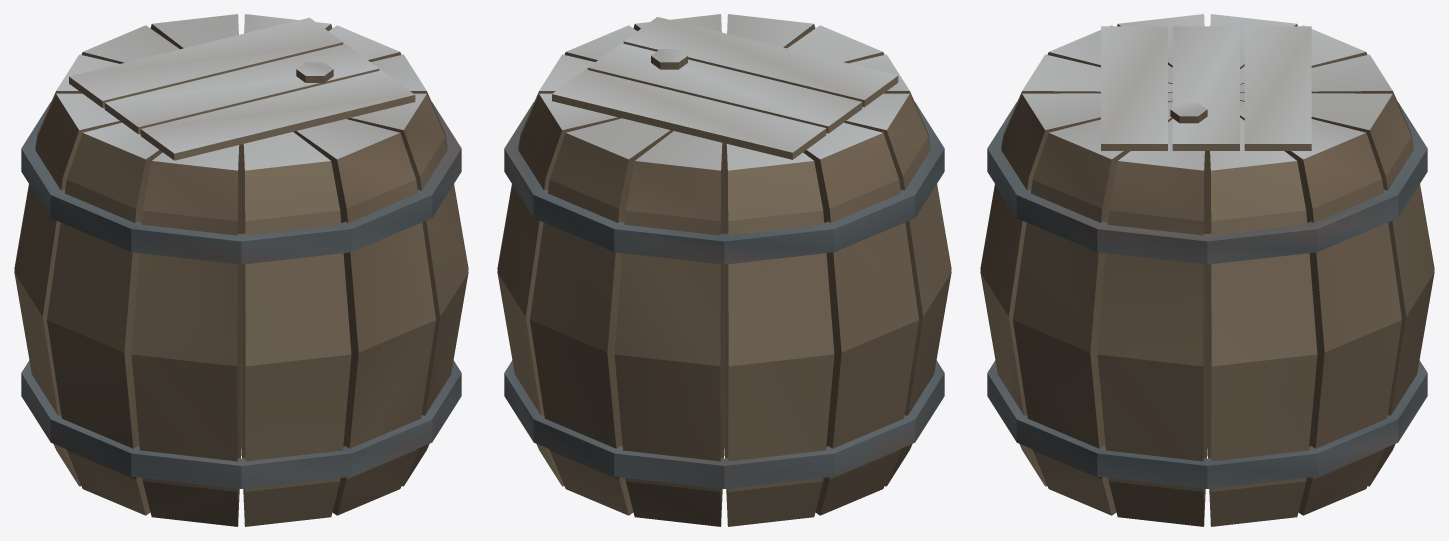
File: barrel.glb
3 renders of one model, left to right at view 1: azimuth 30°, elevation 25°; view 2: azimuth 150°, elevation 25°; view 3: azimuth 270°, elevation 25°, orthographic.
Parts seen in each view (by area): view 1: barrel; view 2: barrel; view 3: barrel.
Part boxes in pixels (x1=…): barrel: x1=14, y1=14, x2=468, y2=526; barrel: x1=497, y1=14, x2=951, y2=526; barrel: x1=980, y1=14, x2=1434, y2=526.
Size of the model in its own units: 1 by 0.9 by 1.
